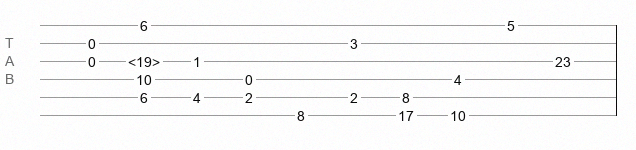0: (88, 36, 96, 46), (88, 54, 96, 64), (245, 72, 253, 82)
1: (193, 54, 201, 64)
10: (136, 72, 152, 82), (450, 108, 466, 118)
17: (398, 108, 414, 118)
2: (245, 90, 253, 100), (350, 90, 358, 100)
23: (555, 54, 571, 64)
3: (350, 36, 358, 46)
4: (193, 90, 201, 100), (454, 72, 462, 82)
5: (507, 18, 515, 28)
6: (140, 18, 148, 28), (140, 90, 148, 100)
8: (297, 108, 305, 118), (402, 90, 410, 100)
harmonic: (128, 54, 160, 64)
